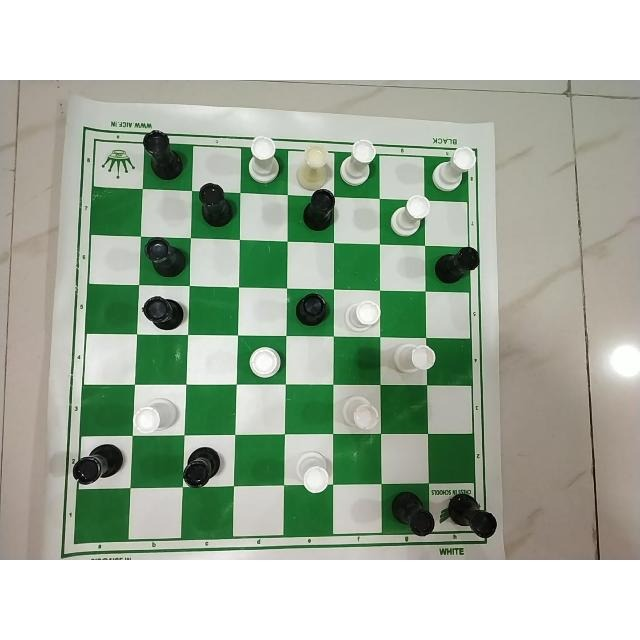black-rook: (447, 490, 501, 541), (389, 487, 437, 537), (141, 129, 187, 181), (72, 441, 124, 485), (179, 441, 221, 493), (434, 245, 481, 286), (142, 237, 187, 279), (141, 292, 187, 332), (195, 182, 233, 229), (300, 189, 335, 233), (294, 292, 331, 330)
white-rook: (432, 145, 476, 197), (130, 393, 182, 435), (292, 448, 336, 495), (294, 143, 336, 191), (388, 195, 430, 242), (340, 139, 378, 188), (246, 135, 282, 185), (388, 341, 438, 377), (245, 343, 285, 383), (338, 396, 381, 432), (343, 297, 384, 333)
